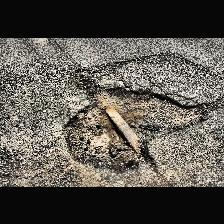pothole: (62, 84, 208, 174)
